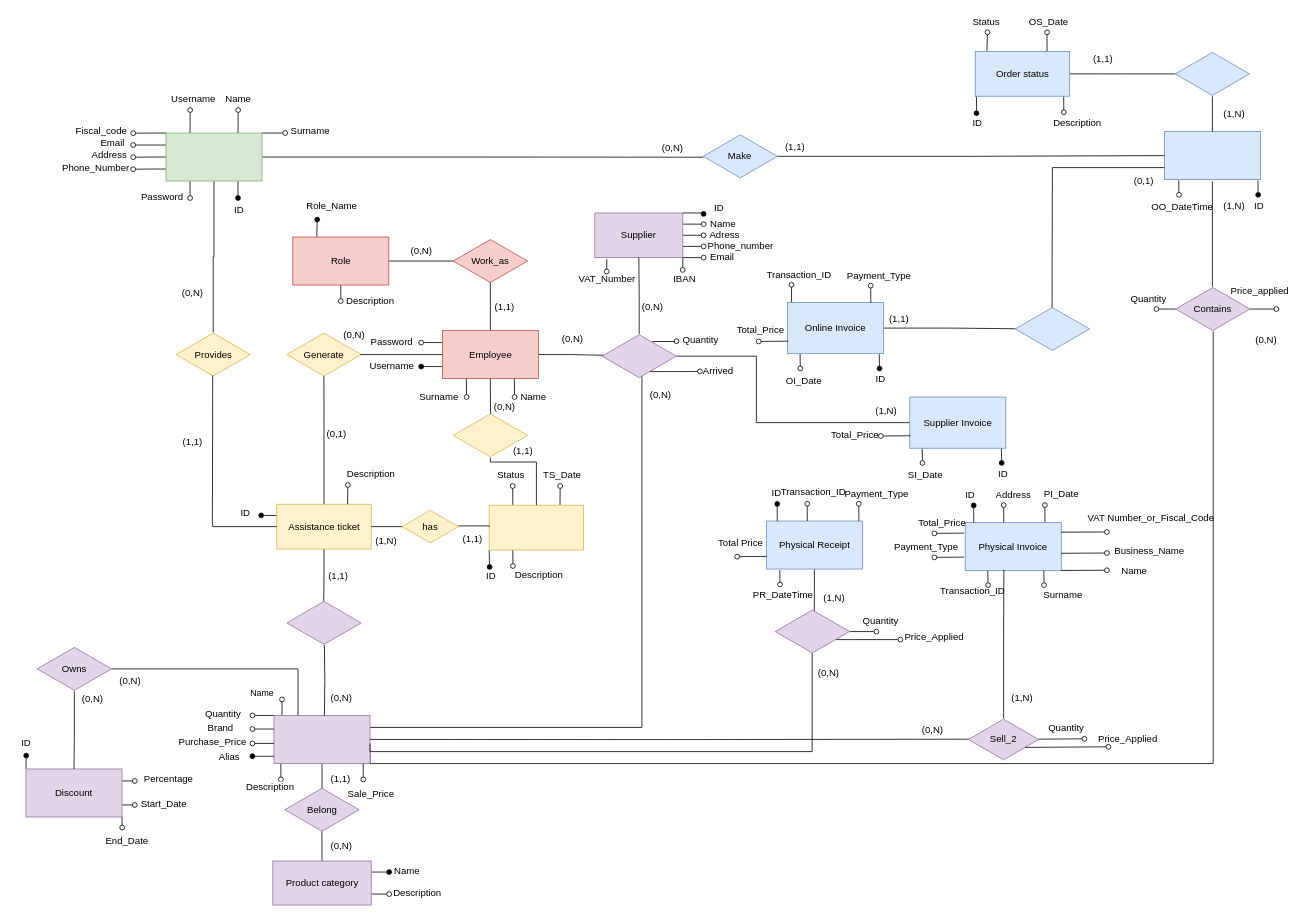
The diagram is 1309 pixels wide and 919 high, and some of its shapes have lost their labels. Each missing label, with the box of its shape:
Customer: (165, 132, 262, 181)
is_payed_by: (1014, 306, 1090, 351)
Keep: (1174, 51, 1250, 96)
Online Order: (1164, 131, 1260, 180)
Product: (273, 715, 370, 763)
Refers to: (286, 600, 361, 645)
Restock: (601, 333, 676, 378)
Sell_1: (774, 608, 850, 654)
Ticket status: (488, 504, 584, 550)
updates: (452, 412, 528, 458)
